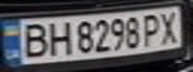2: (90, 16, 112, 53)
8: (72, 18, 96, 54), (124, 14, 145, 50)
9: (109, 16, 127, 52)
B: (18, 20, 51, 58)
H: (42, 19, 72, 56)
P: (139, 11, 166, 47)
X: (157, 9, 184, 45)
